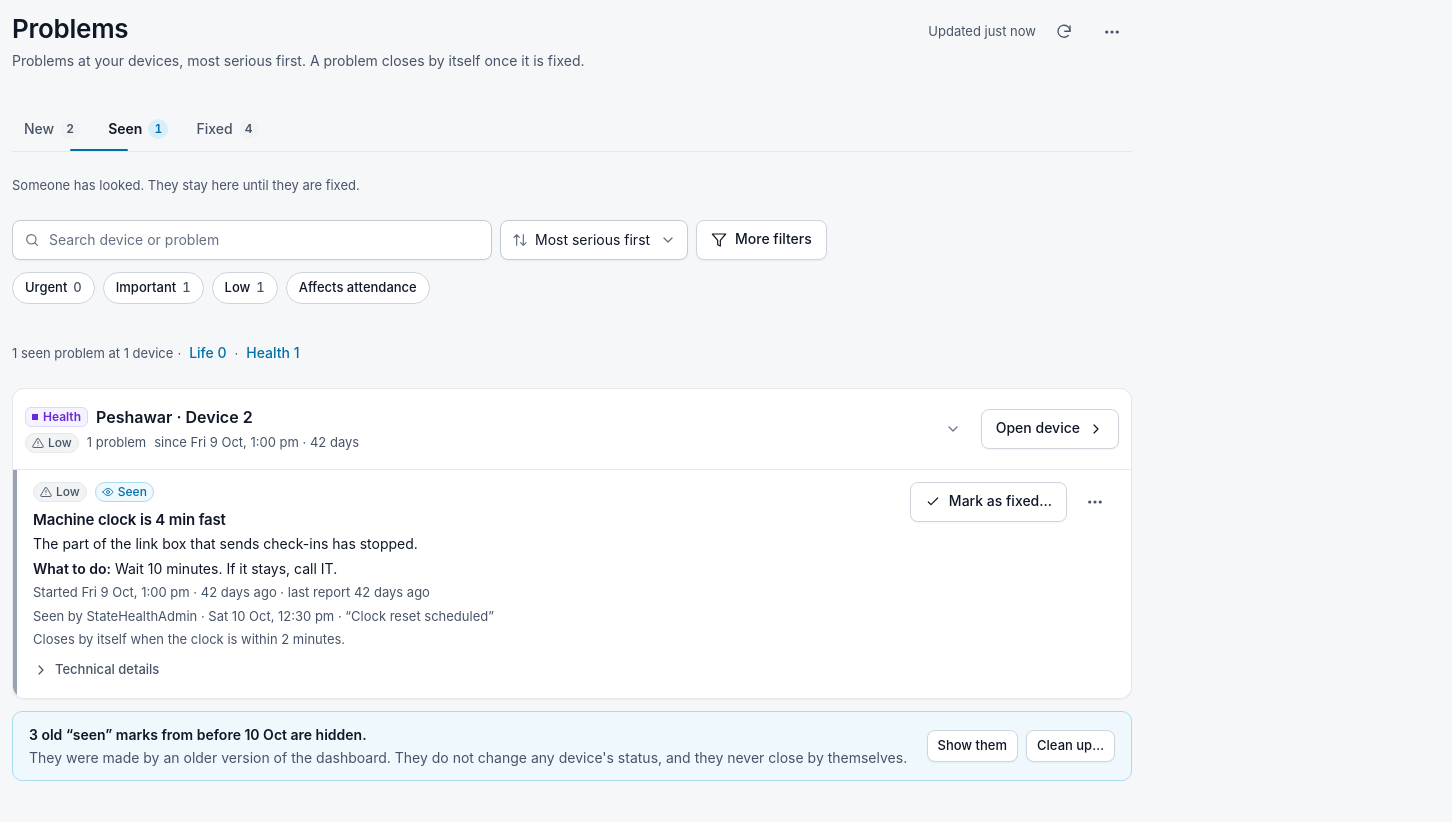
Problems page › hides the old seen marks behind one note and lists them on request
This screenshot has width=1452, height=822.
Expected: the text "3 old “seen” marks from before 10 Oct are hidden." is shown, [29,726,367,743]
Click the button "Show them" at (972, 746), box [926,730,1018,762]
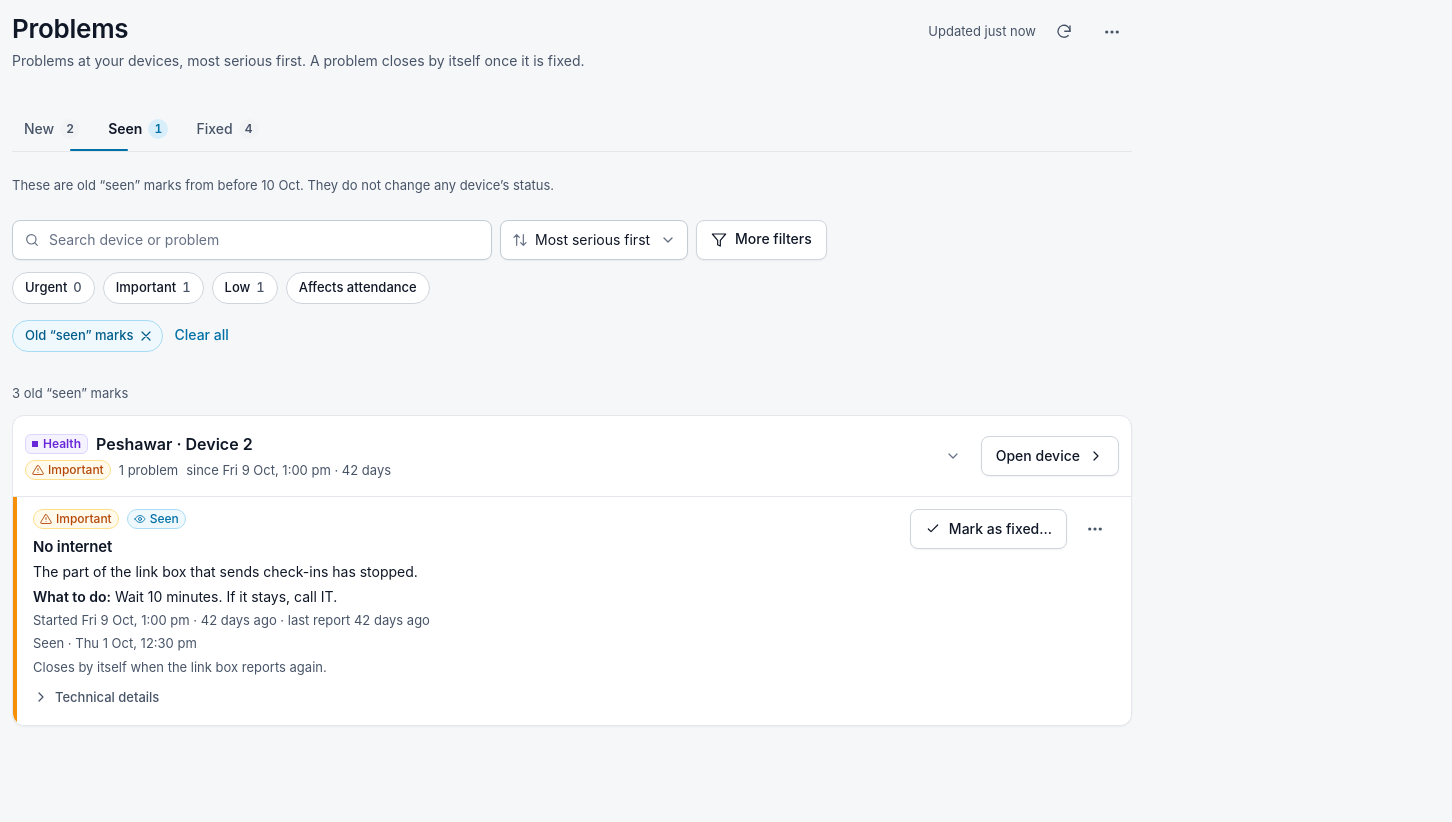
Expected: the element "No internet" is shown, [13,497,1131,725]
